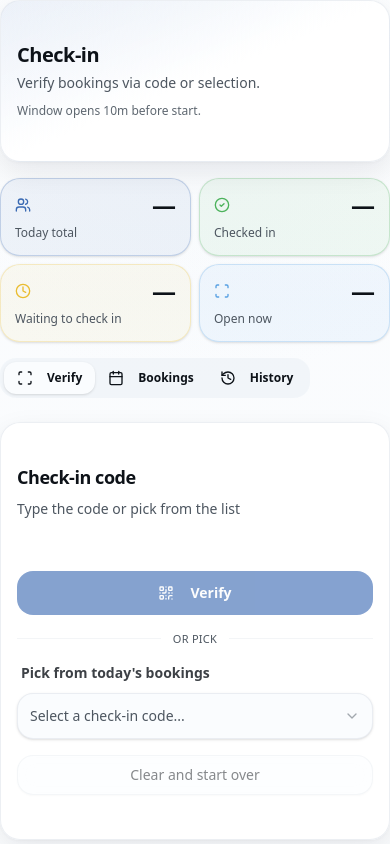
it: CheckInPage › shows note previews directly in the bookings tab
This screenshot has width=390, height=844.
Press the mouse on the tab "Bookings": (151, 378) [95,362,207,394]
(page scrolled)
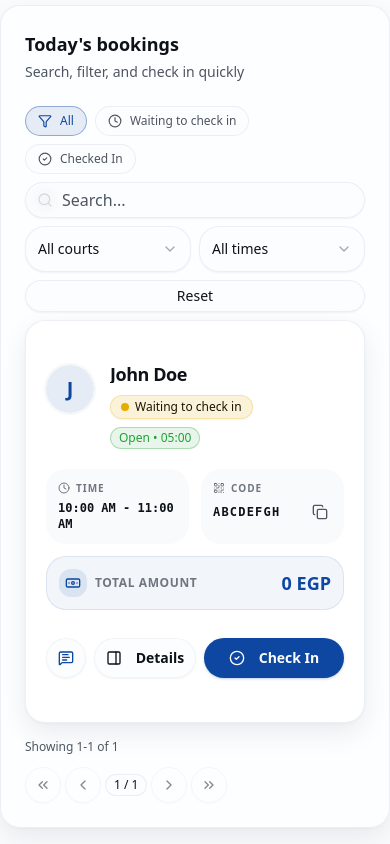
Now the heading "John Doe" is shown, box [110,362,187,386]
Click the button named "show player note": (66, 658) [46,638,86,678]
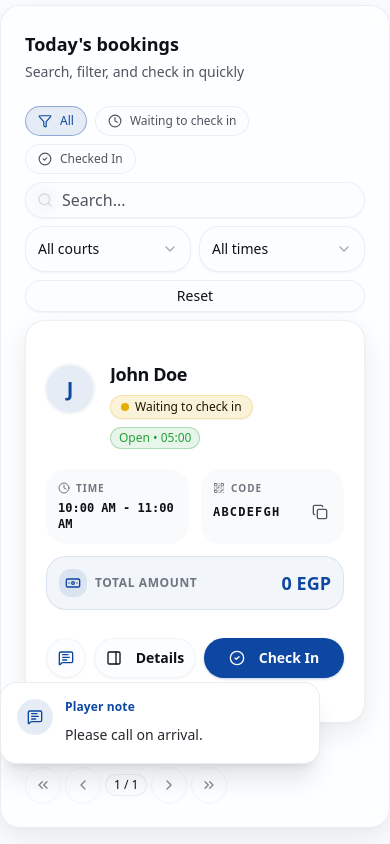
Now the text "Please call on arrival." is shown, box [65,723,203,747]
